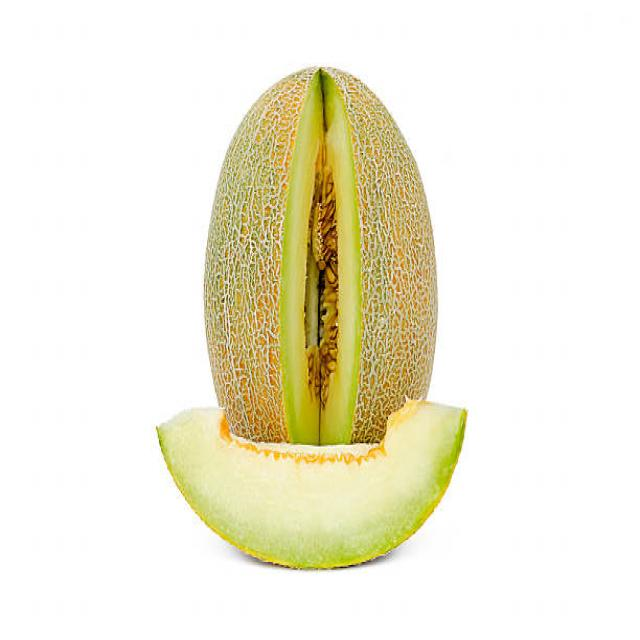melon: (196, 57, 439, 394), (148, 396, 474, 569)
